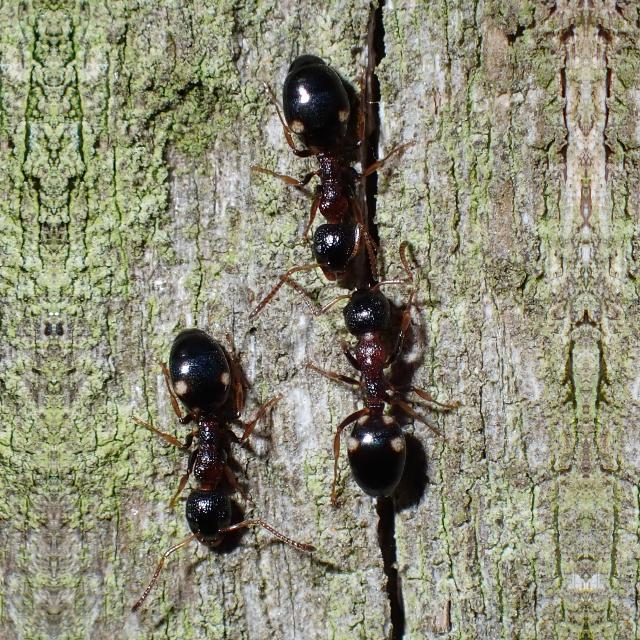Dolichoderus: (140, 302, 272, 576), (318, 256, 442, 516), (260, 46, 380, 288)
